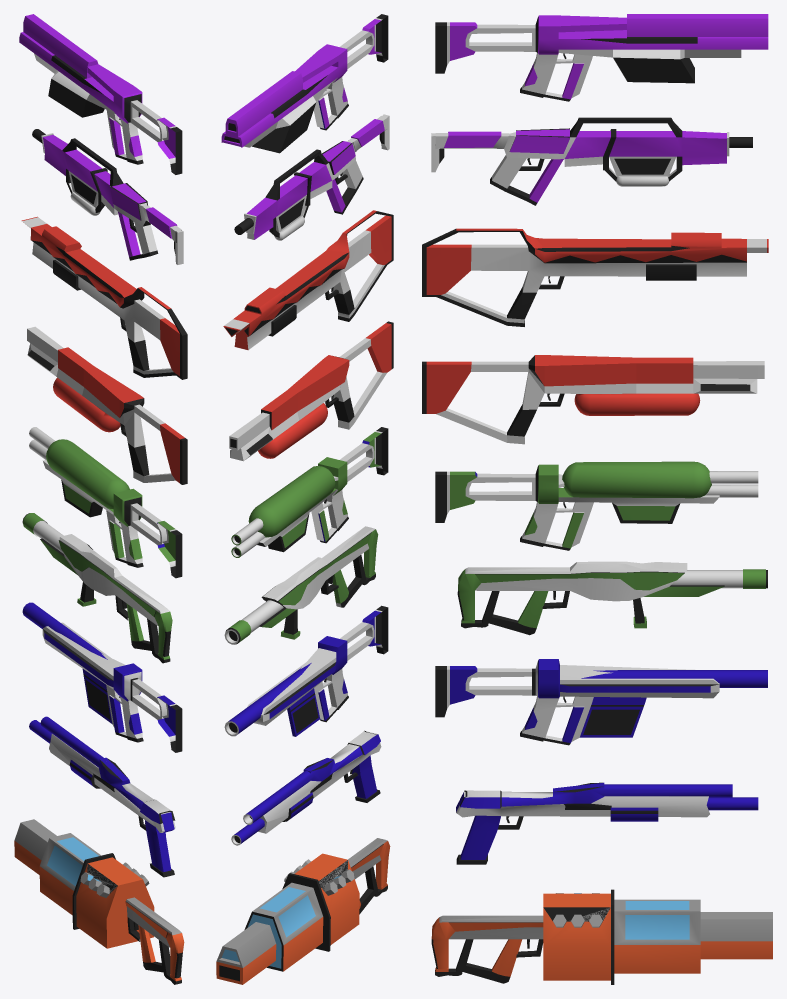
File: Rifles.fbx
3 renders of one model, left to right at view 1: azimuth 30°, elevation 25°; view 2: azimuth 150°, elevation 25°; view 3: azimuth 270°, elevation 25°, orthographic. The views are drawn at different scales.
Parts seen in each view (by area): view 1: Rifle_9, Rifle_8, Rifle_5, Rifle_7, Rifle_4, Rifle_2, Rifle_6, Rifle_1, Rifle_3; view 2: Rifle_9, Rifle_8, Rifle_5, Rifle_7, Rifle_4, Rifle_2, Rifle_6, Rifle_1, Rifle_3; view 3: Rifle_9, Rifle_8, Rifle_5, Rifle_7, Rifle_4, Rifle_2, Rifle_6, Rifle_1, Rifle_3.
Part boxes in pixels (x1,y1,x2,y2): Rifle_9: (14,819,184,984); Rifle_8: (19,14,182,174); Rifle_5: (27,326,187,484); Rifle_7: (21,216,187,379); Rifle_4: (29,427,182,578); Rifle_2: (22,602,182,752); Rifle_6: (32,129,183,264); Rifle_1: (22,513,172,663); Rifle_3: (29,716,175,877); Rifle_9: (216,838,390,984); Rifle_8: (221,14,388,153); Rifle_5: (229,321,393,461); Rifle_7: (223,210,393,350); Rifle_4: (231,427,388,557); Rifle_2: (224,605,388,736); Rifle_6: (234,114,389,240); Rifle_1: (224,526,378,644); Rifle_3: (231,730,381,845); Rifle_9: (431,889,772,984); Rifle_8: (435,14,768,101); Rifle_5: (422,355,764,444); Rifle_7: (422,228,768,326); Rifle_4: (435,461,758,550); Rifle_2: (435,659,767,745); Rifle_6: (431,117,752,205); Rifle_1: (457,561,767,635); Rifle_3: (456,782,758,864).
Size of the model in its own units: 74.35 by 1179 by 388.
